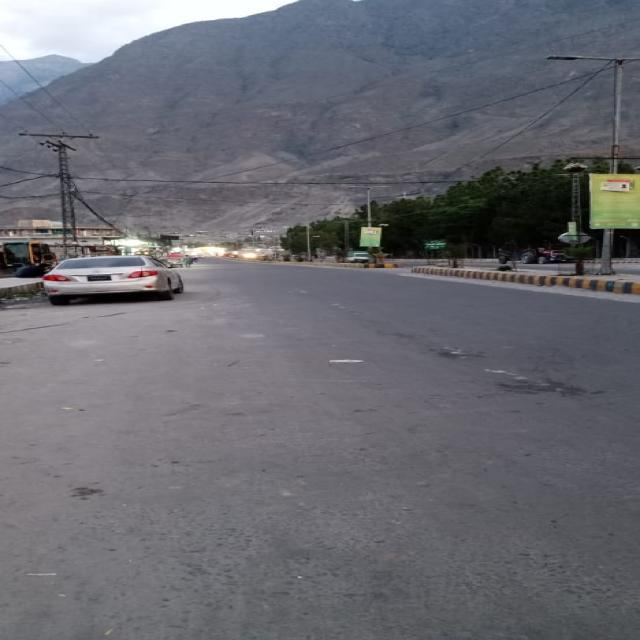straight: (194, 256, 468, 510)
